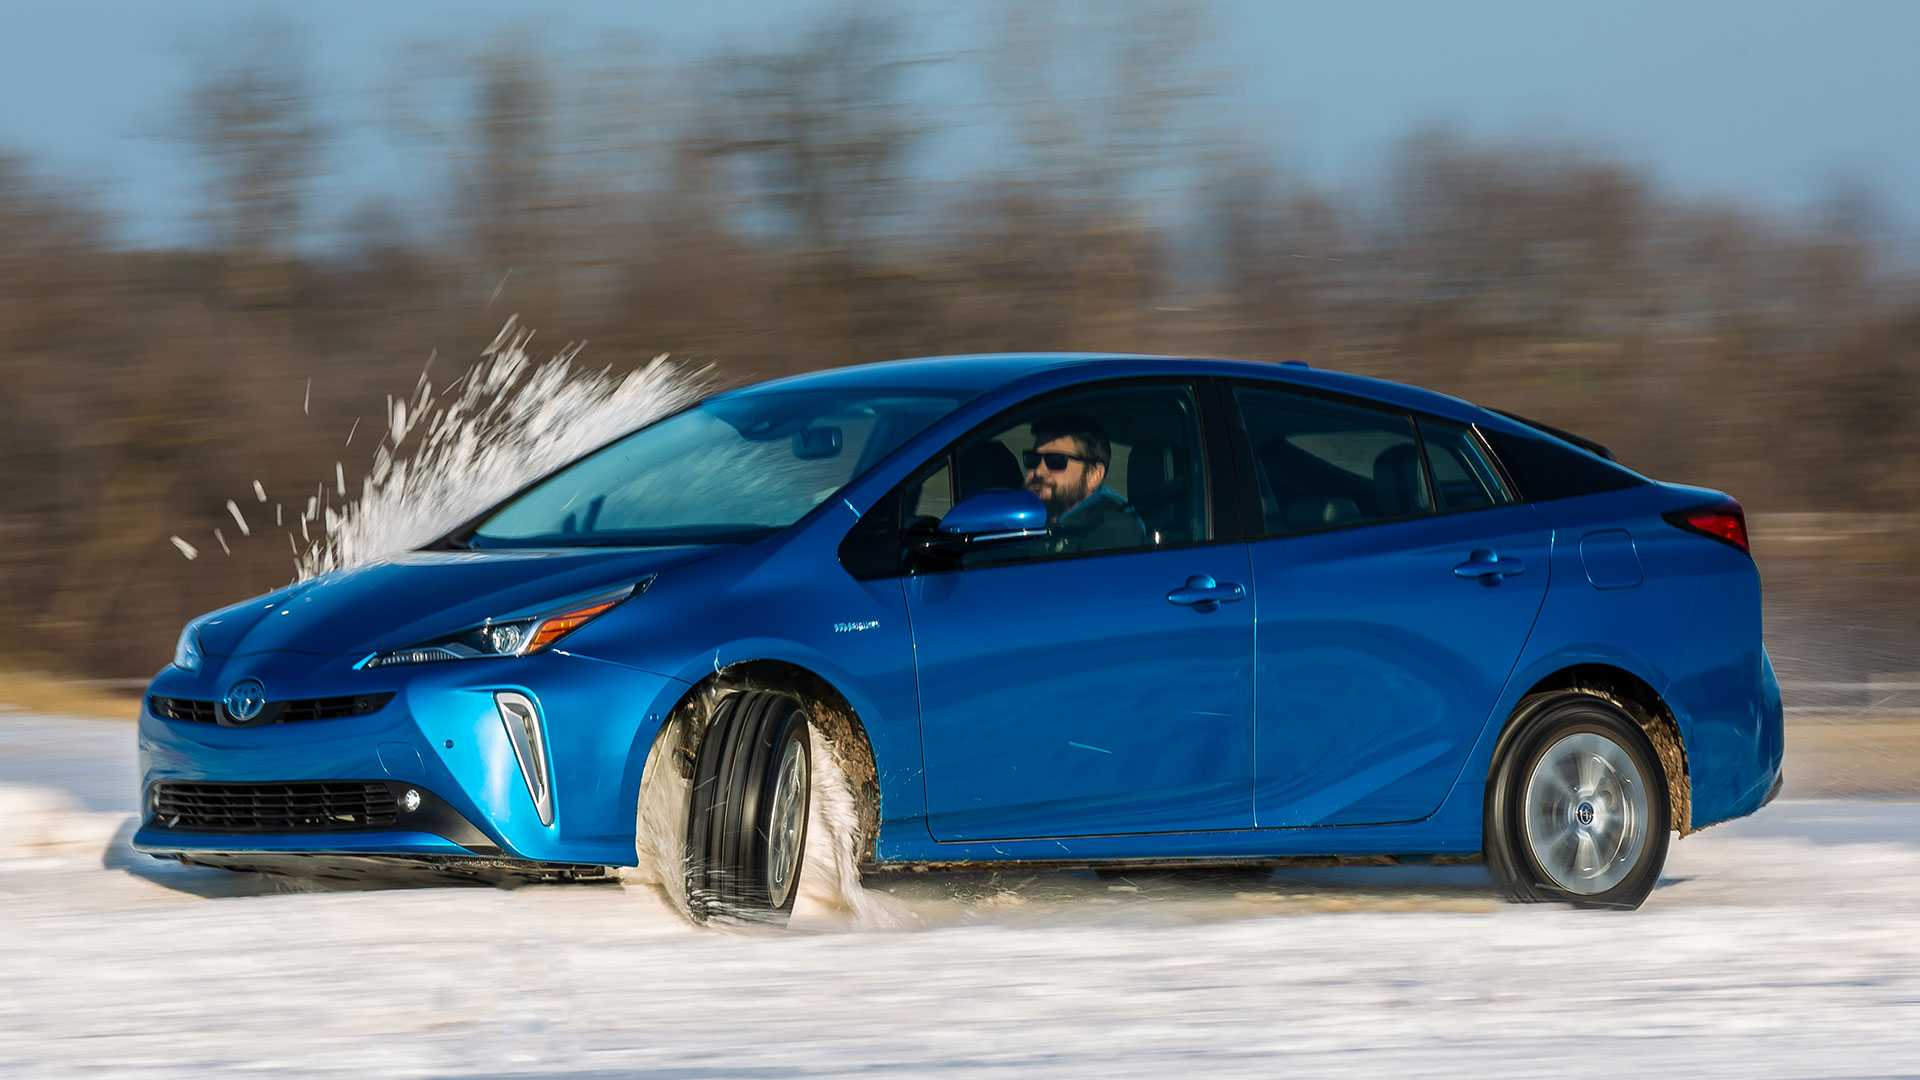Toyota Prius: (140, 357, 1785, 927)
